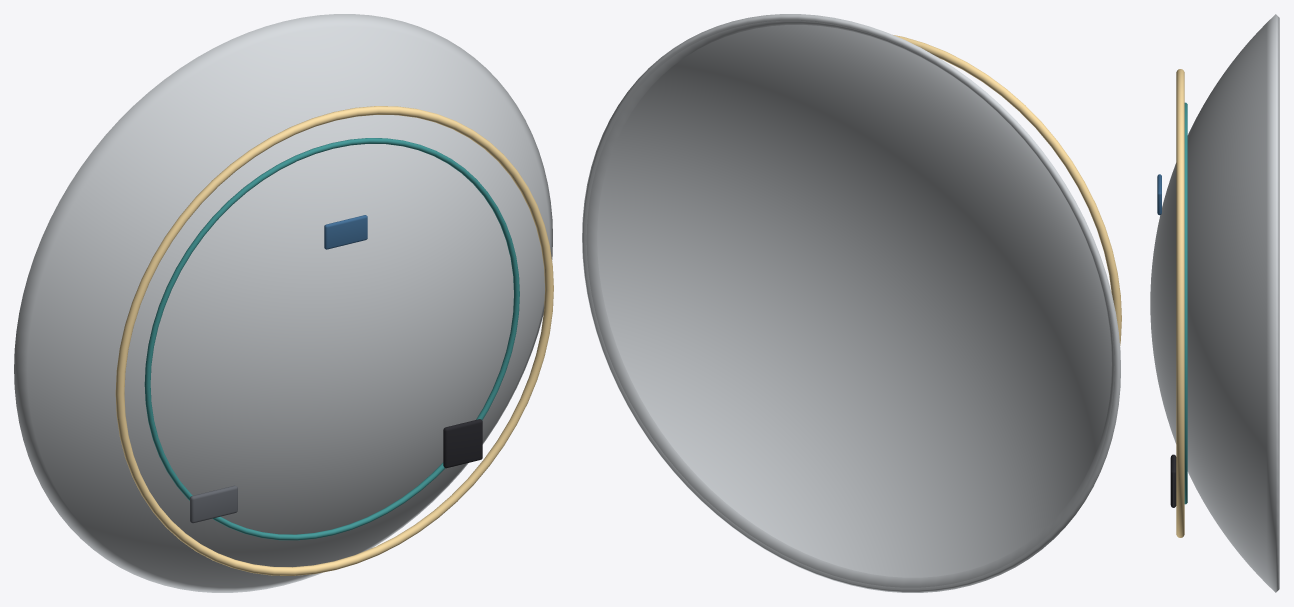
The model's file is LunaLens.glb.
3 views of the same model, side by side, from view 1: azimuth 30°, elevation 25°; view 2: azimuth 150°, elevation 25°; view 3: azimuth 270°, elevation 25° (orthographic). The views are drawn at different scales.
Visible parts, largest first — view 1: Outer, Antenna, Biosensor, AIChip, PowerCell, Display; view 2: Outer, Inner, Antenna; view 3: Outer, Antenna, Biosensor, AIChip, Display.
Boxes of the visible parts, bbox=[...] form: Outer: bbox=[14, 14, 552, 592]; Antenna: bbox=[115, 106, 553, 575]; Biosensor: bbox=[144, 138, 519, 540]; AIChip: bbox=[443, 419, 482, 468]; PowerCell: bbox=[190, 485, 237, 523]; Display: bbox=[324, 215, 367, 249]; Outer: bbox=[582, 14, 1120, 592]; Inner: bbox=[586, 20, 1114, 587]; Antenna: bbox=[893, 35, 1121, 345]; Outer: bbox=[1150, 14, 1279, 592]; Antenna: bbox=[1176, 69, 1184, 537]; Biosensor: bbox=[1184, 102, 1187, 504]; AIChip: bbox=[1170, 454, 1176, 507]; Display: bbox=[1157, 174, 1161, 215].
Bounding box in the file's own units: 0.2 × 0.2 × 0.0447.
